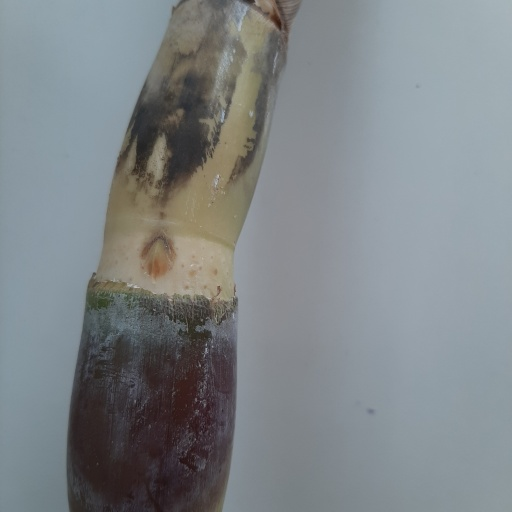Bud: (140, 235, 176, 277)
